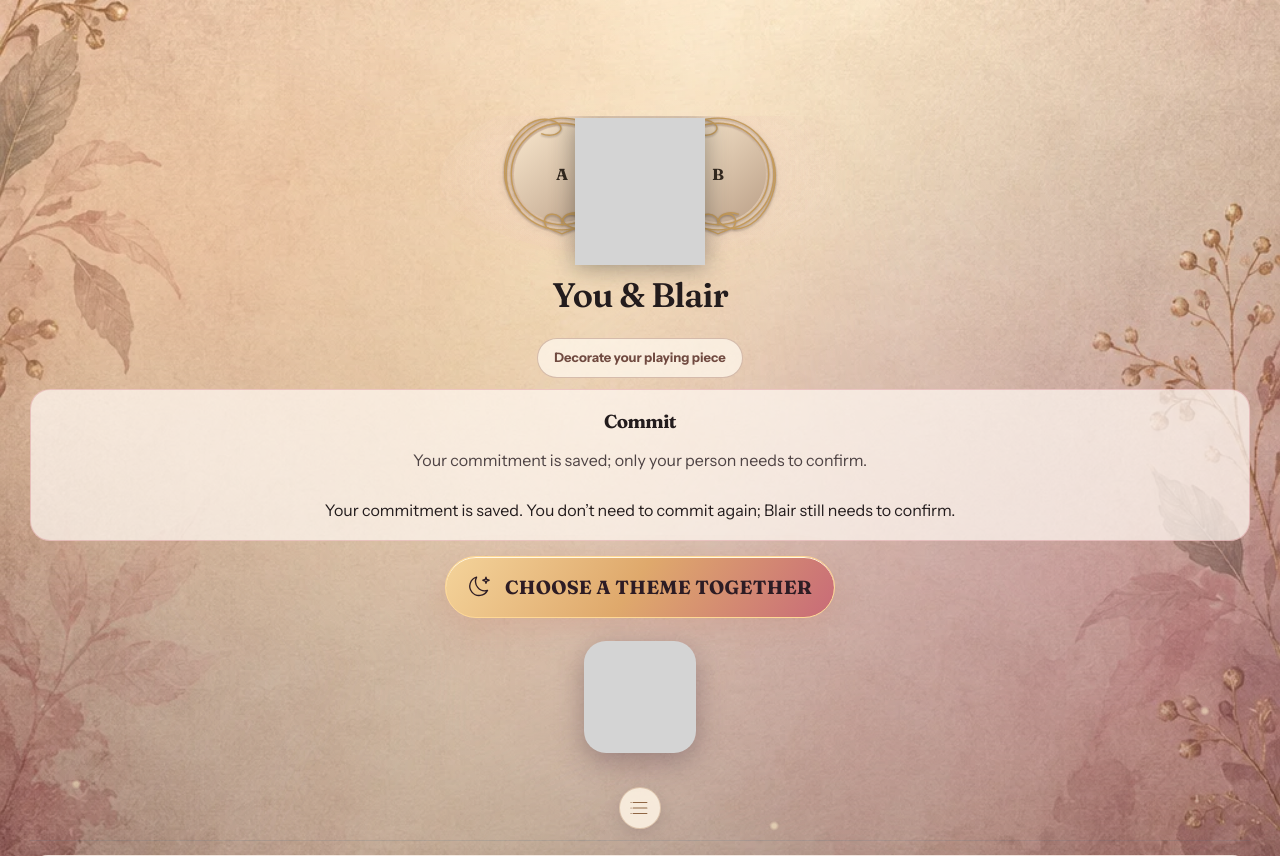
Test: permanent pairing menus › opens the portrait frames from the profile portrait without adding a lobby section
Click the button named "Edit profile portrait" at (562, 174), box [497,109,627,239]
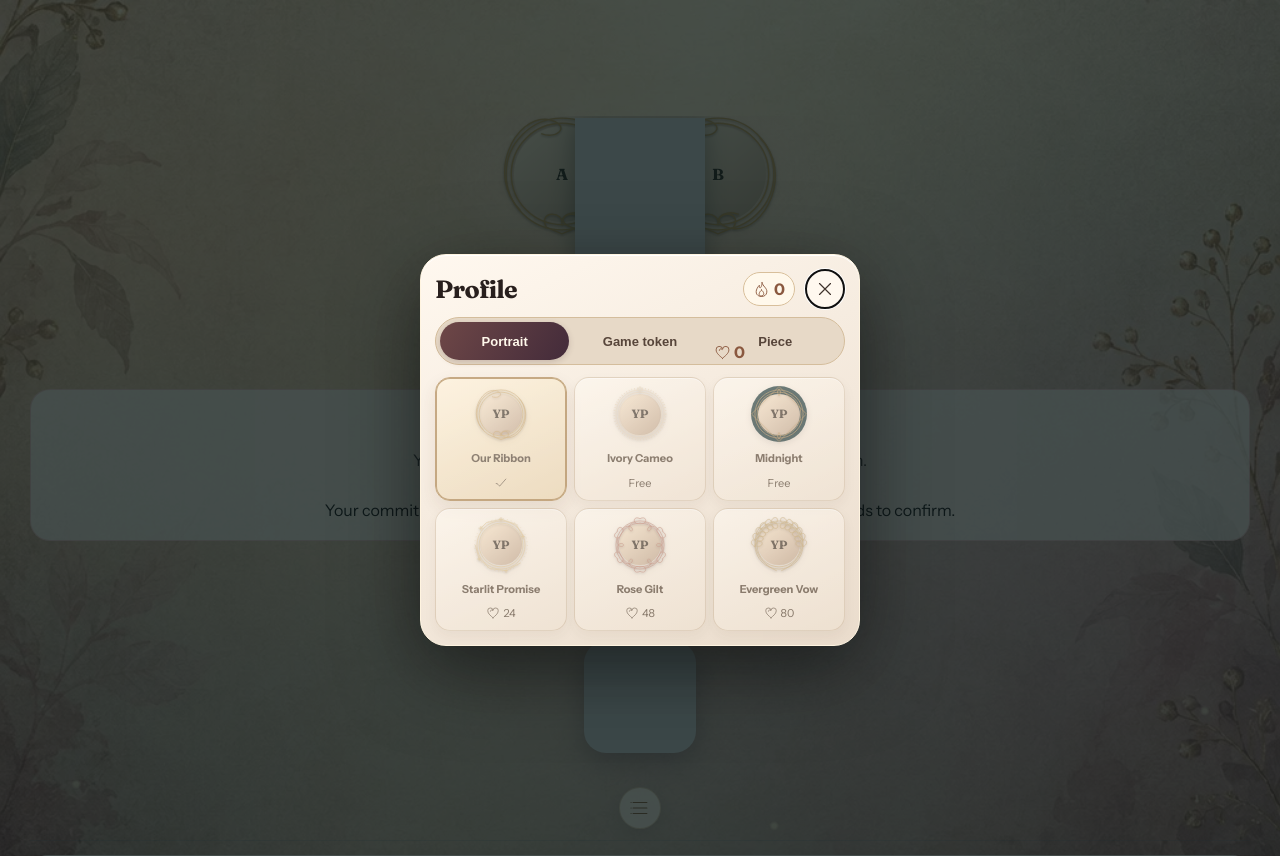
Expected: the dialog "Profile" is shown, [420,254,860,646]
Expected: the element named "0 day streak" is shown, [743,272,795,306]
Click the button named "Close profile" at (825, 289), box [805,269,845,309]
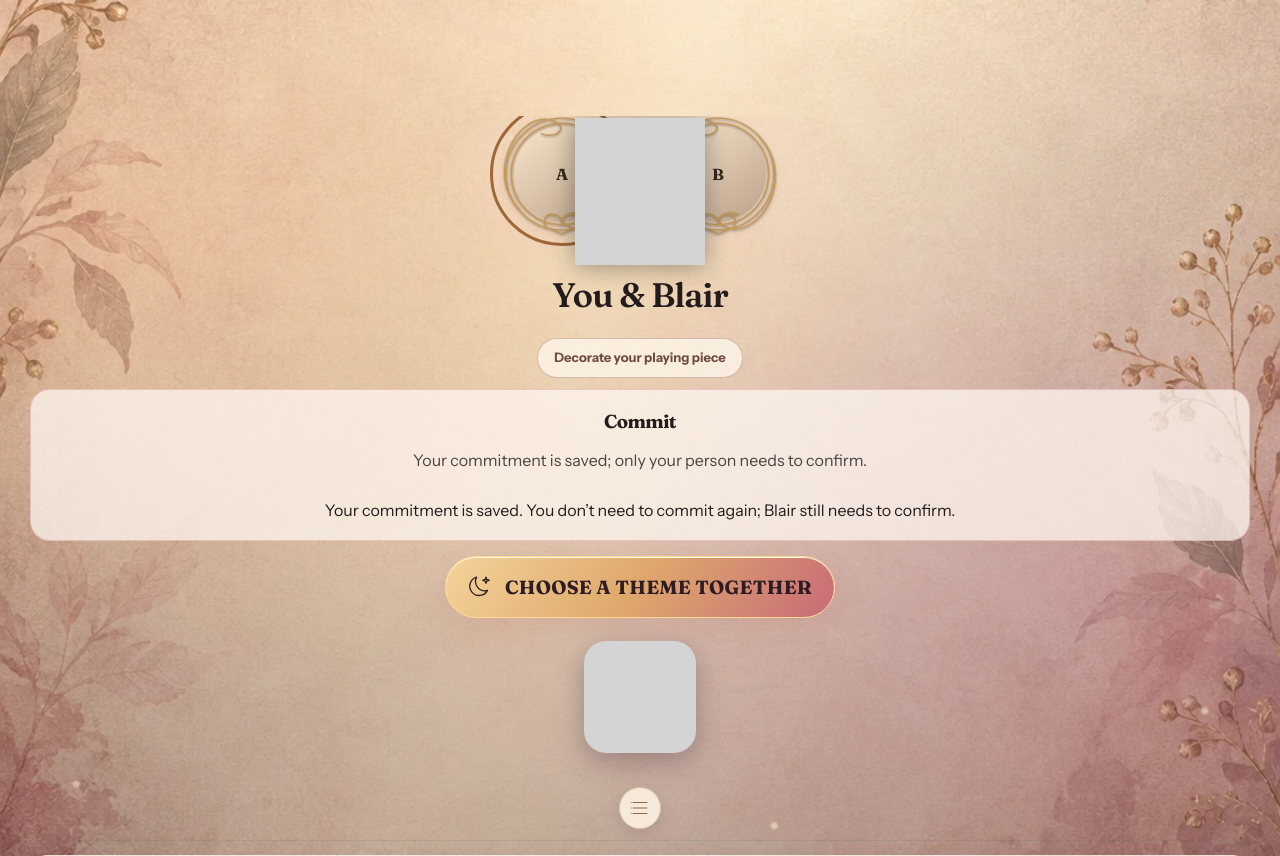
Expected: the dialog is gone
